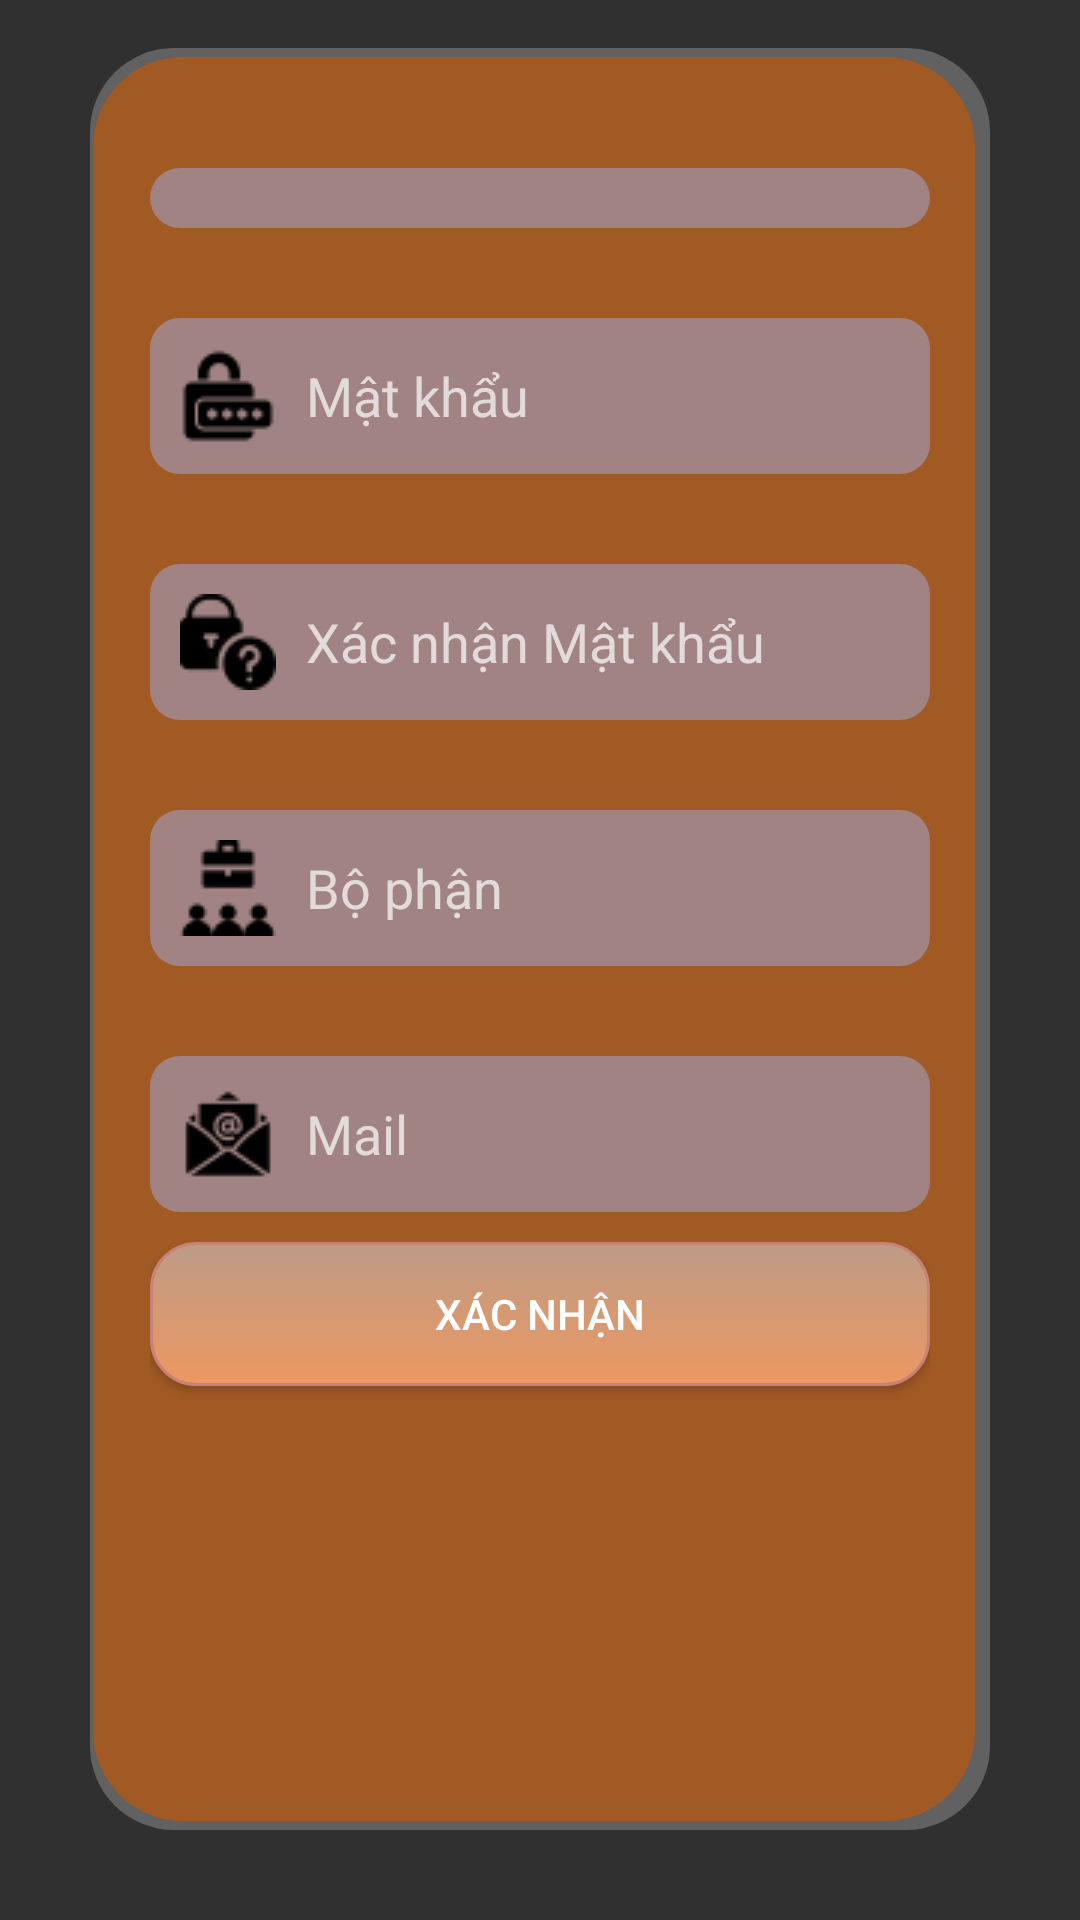

Icons on this 1080 x 1920 Android screen, each with the point to tap as [x,y]:
confirm password: [228,642]
department: [228,888]
password: [228,396]
